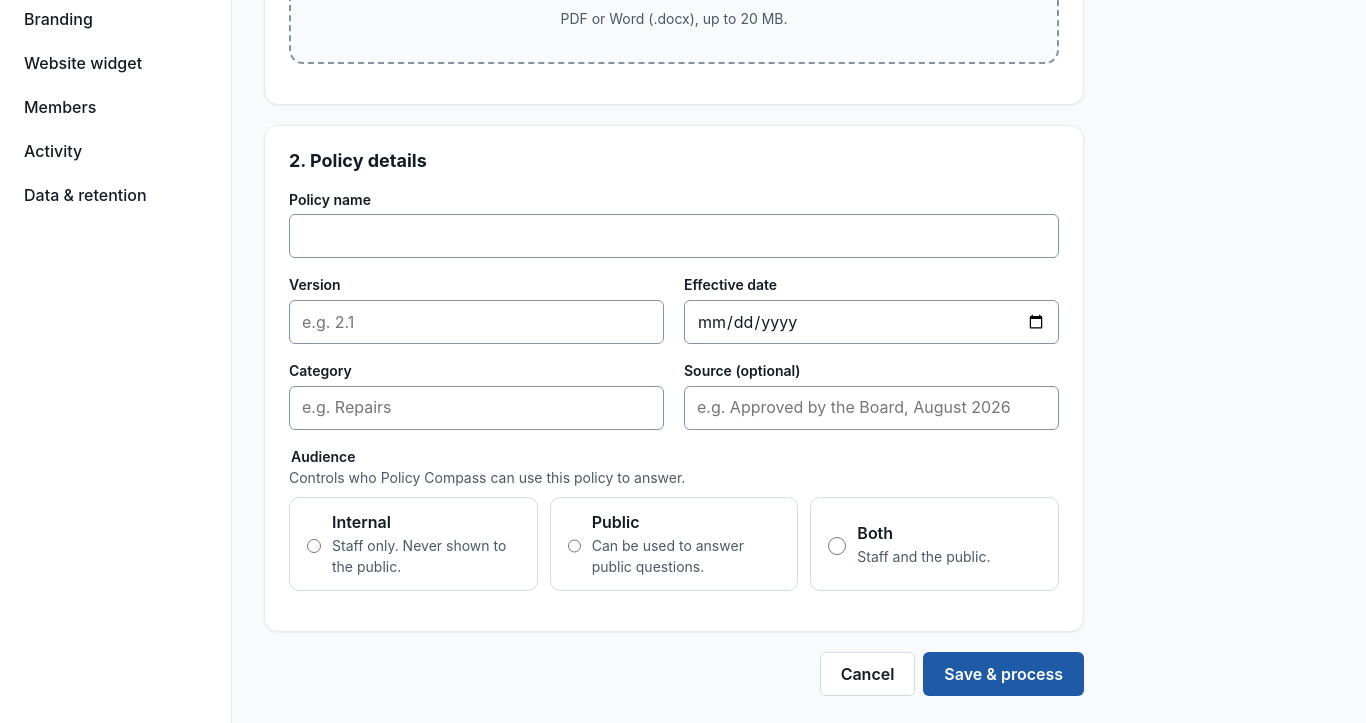
Test: Upload policy › shows owner and help-route guidance depending on the audience
(page scrolled)
Expected: the text "Internal policy owner" is not shown
Click the radio button labelled "Internal Staff only. Never shown to the public." at (314, 546), box [307, 537, 321, 555]
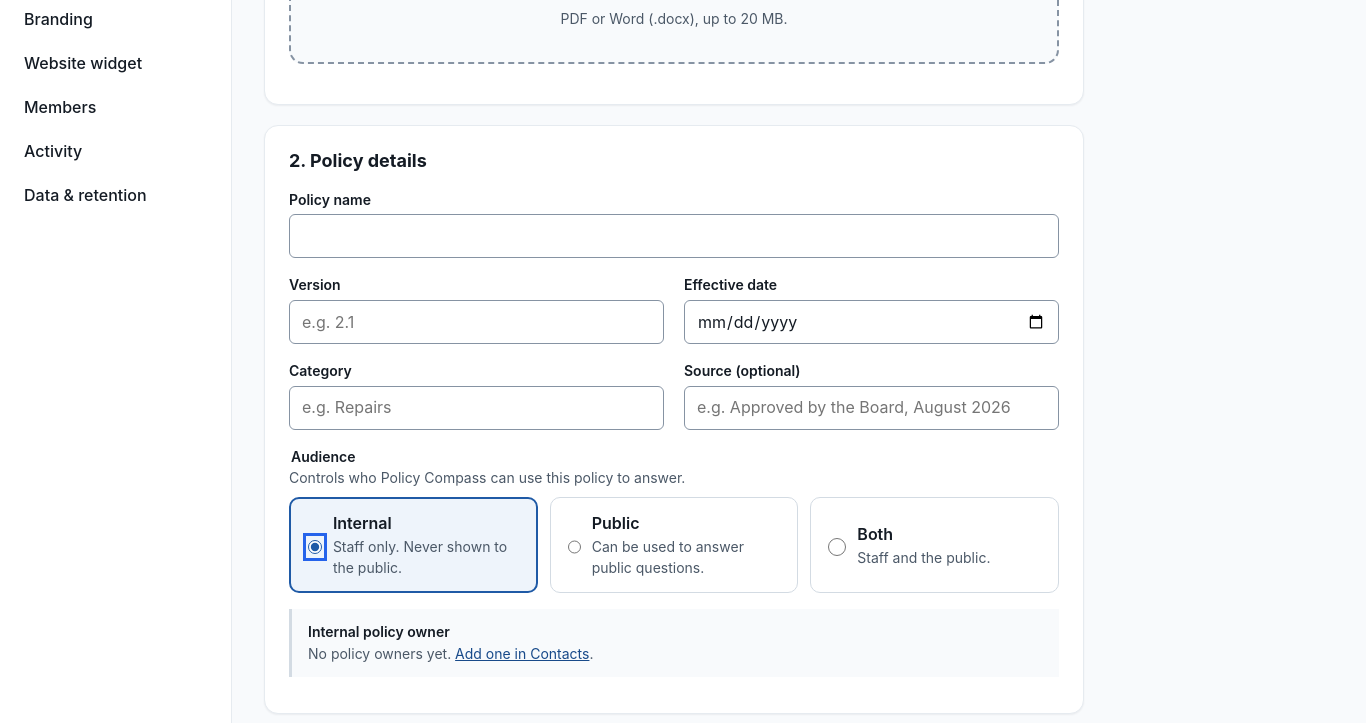
Expected: the text "Public help route" is not shown
Expected: the text "Internal policy owner" is shown, [308, 623, 450, 640]
Click the radio button labelled "Public Can be used to answer public questions." at (574, 547), box [568, 538, 581, 556]
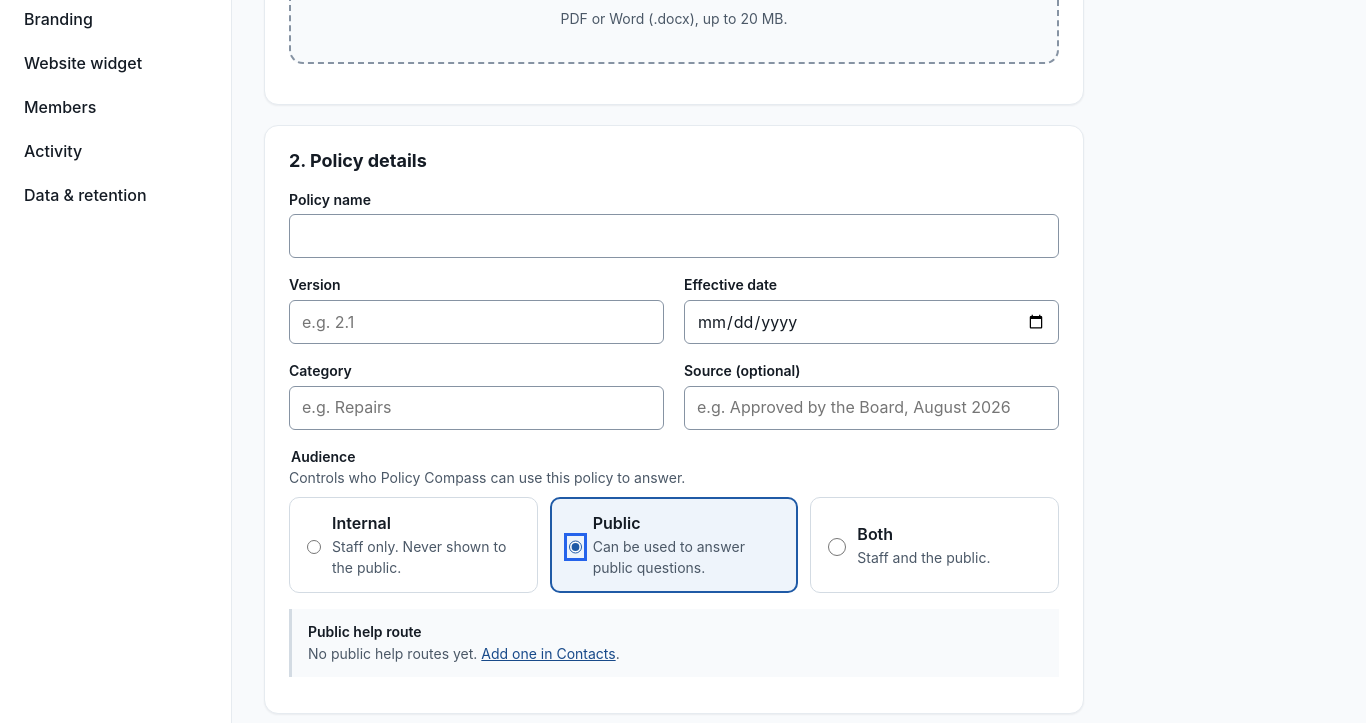
Expected: the text "Internal policy owner" is gone
Expected: the text "Public help route" is shown, [308, 623, 422, 640]
Click the radio button labelled "Both Staff and the public." at (837, 547), box [828, 538, 846, 556]
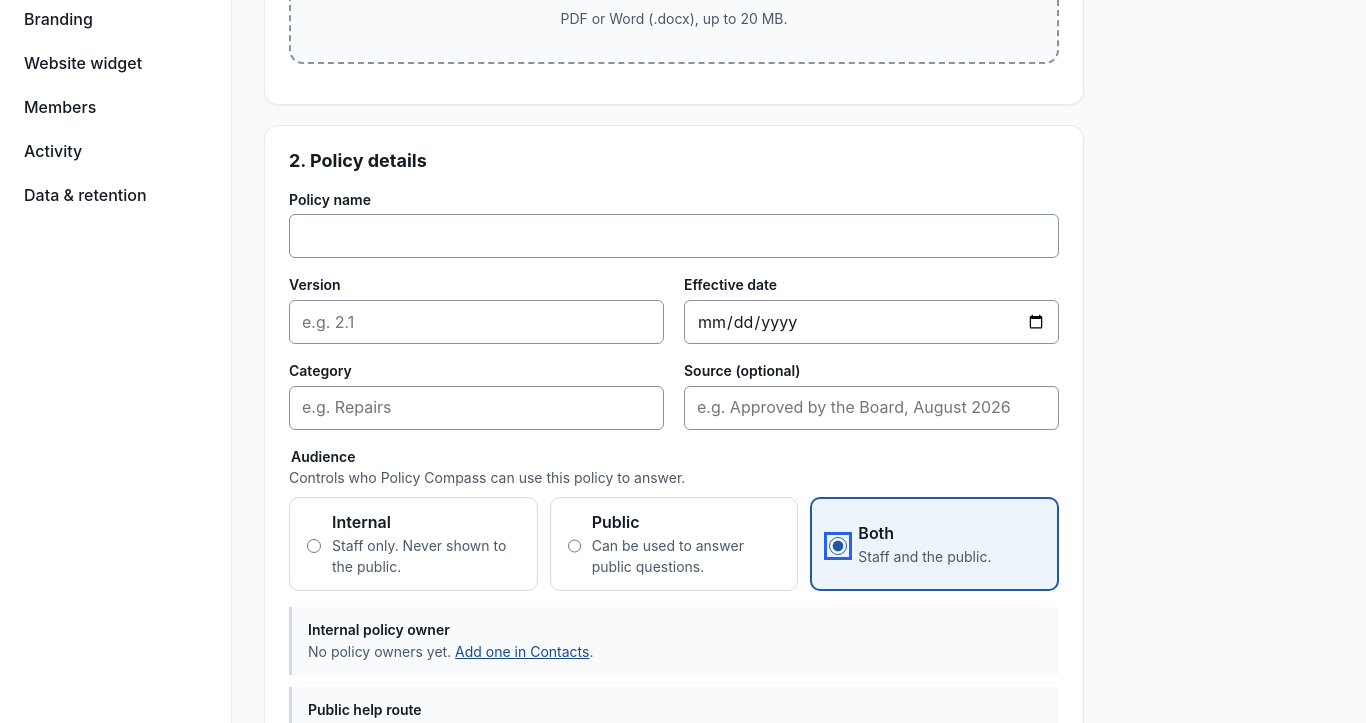
Expected: the text "Public help route" is shown, [308, 700, 422, 718]
Expected: the text "Internal policy owner" is shown, [308, 621, 450, 638]
